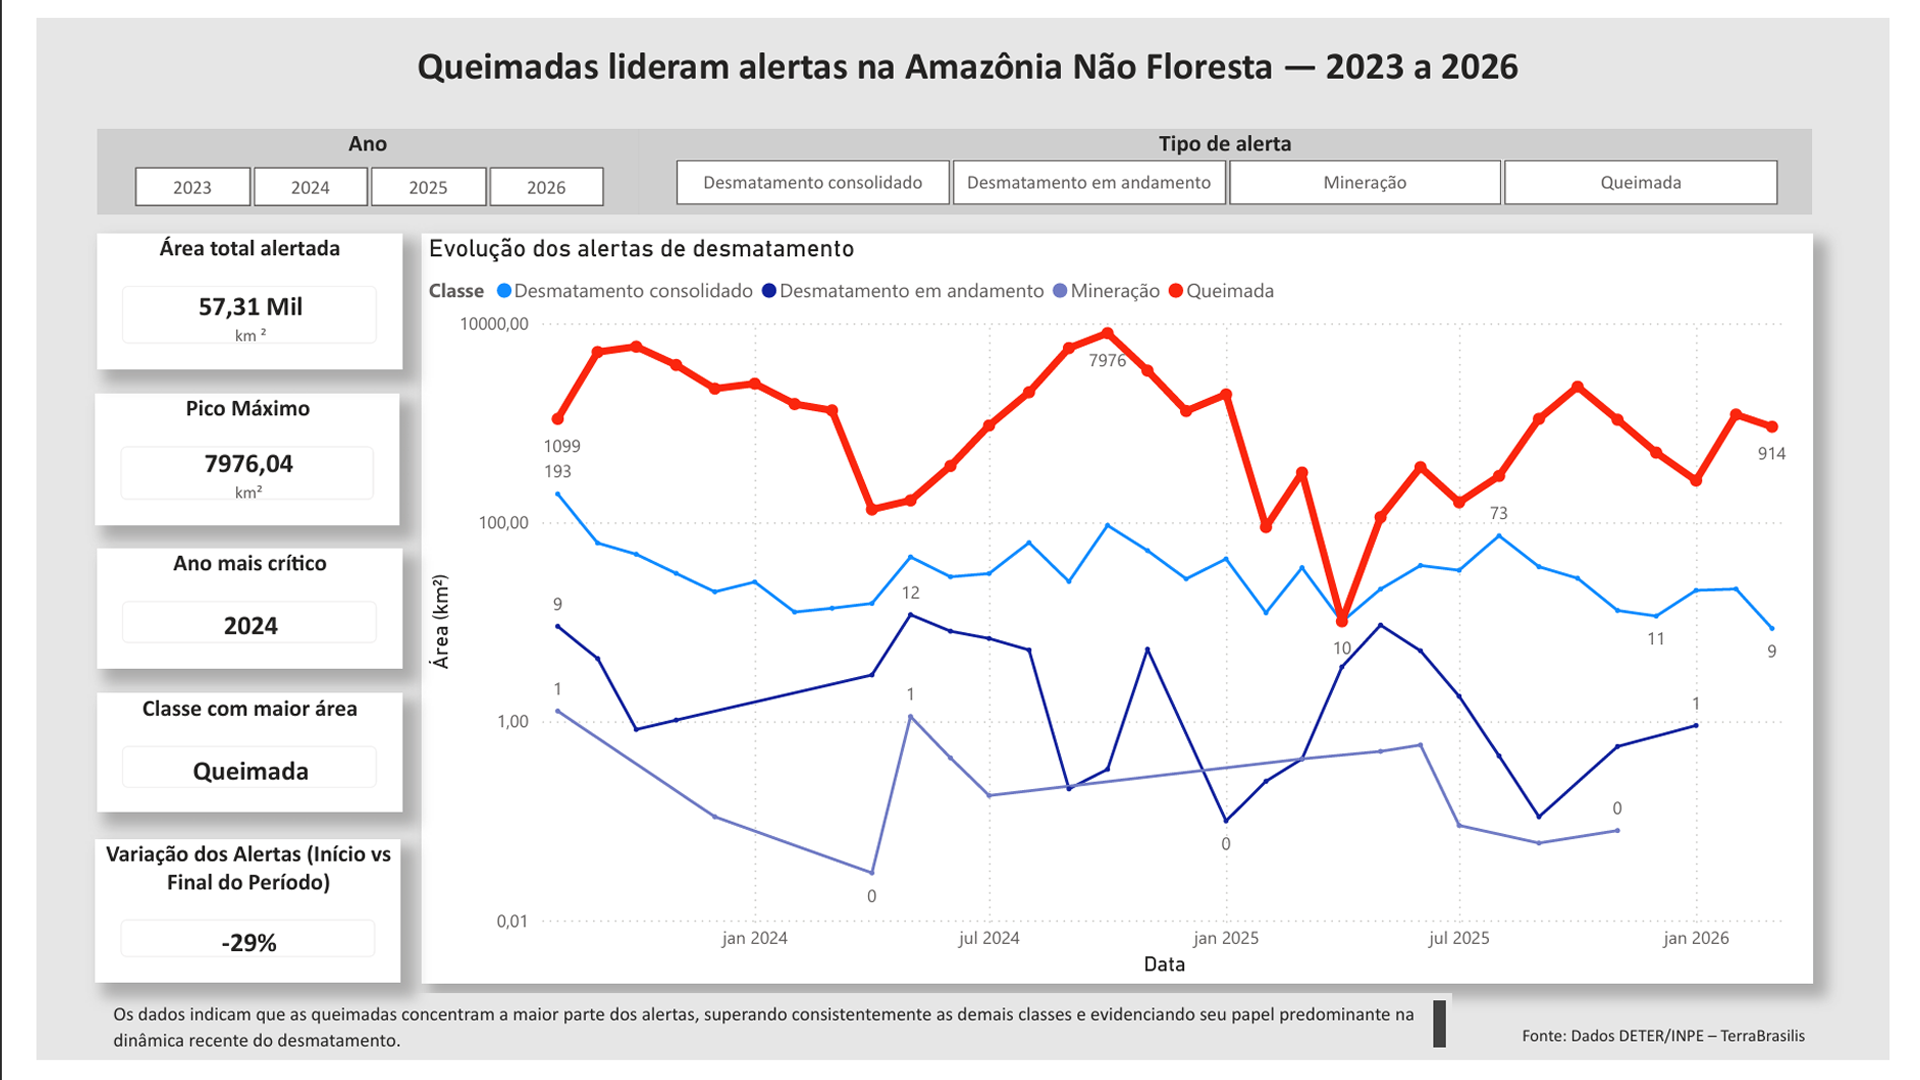

This screenshot's page, from the dashboard's own definition file:
{"tool":"powerbi","page":{"name":"Desmatamento Amazônia","canvas":[1280,720],"ordinal":0},"visuals":[{"type":"lineChart","title":"Evolução dos alertas de desmatamento","fields":{"Series":["Mensal.Classe"],"Category":["Mensal.Data"],"Y":["Sum(Mensal.Area km2)"]},"box":[266.1,149.2,960.5,518],"z":0},{"type":"slicer","title":"Tipo de alerta","fields":{"Values":["Mensal.Classe"]},"box":[416.3,76.6,810.3,59.5],"z":1000},{"type":"slicer","title":"Ano","fields":{"Values":["Mensal.Ano"]},"box":[42.3,76.6,373.9,59.5],"z":2000},{"type":"textbox","title":"Queimadas lideram alertas na Amazônia Não Floresta — 2023 a 2026","box":[34.8,17,1217.3,60],"z":3000},{"type":"textbox","box":[978,688,249,30],"z":4000},{"type":"textbox","box":[48,674,930,44],"z":6000},{"type":"cardVisual","title":"Área total alertada","fields":{"Data":["Sum(Mensal.Area km2)"]},"box":[42.3,149.2,210.6,93.7],"z":9001},{"type":"cardVisual","title":"Pico Máximo","fields":{"Data":["Mensal.Pico Máximo"]},"box":[41.3,260,209.6,90.7],"z":9002},{"type":"cardVisual","title":"Ano mais crítico","fields":{"Data":["Mensal.Ano Mais Crítico"]},"box":[42.3,366.9,210.6,82.6],"z":9003},{"type":"cardVisual","title":"Classe com maior área","fields":{"Data":["Mensal.Classe Destaque"]},"box":[42.3,466.6,210.6,82.6],"z":9004},{"type":"cardVisual","title":"Variação dos Alertas   (Início vs Final do Período)","fields":{"Data":["Mensal.Variação %"]},"box":[41.3,568.4,210.6,98.8],"z":9005}]}

Visuals, with their boxes in screenshot pixels (x1, y1, x2, y2), scaled from the page's 1280x720 canvas onto the 1920x1080 screenshot:
"Evolução dos alertas de desmatamento" lineChart: bbox(399, 224, 1840, 1001)
"Tipo de alerta" slicer: bbox(624, 115, 1840, 204)
"Ano" slicer: bbox(63, 115, 624, 204)
"Queimadas lideram alertas na Amazônia Não Floresta — 2023 a 2026" textbox: bbox(52, 26, 1878, 116)
textbox: bbox(1467, 1032, 1840, 1077)
textbox: bbox(72, 1011, 1467, 1077)
"Área total alertada" cardVisual: bbox(63, 224, 379, 364)
"Pico Máximo" cardVisual: bbox(62, 390, 376, 526)
"Ano mais crítico" cardVisual: bbox(63, 550, 379, 674)
"Classe com maior área" cardVisual: bbox(63, 700, 379, 824)
"Variação dos Alertas   (Início vs Final do Período)" cardVisual: bbox(62, 853, 378, 1001)
